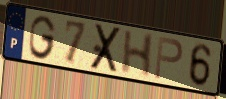6: (188, 42, 215, 90)
7: (63, 18, 87, 66)
G: (28, 14, 58, 61)
H: (119, 29, 156, 80)
P: (153, 34, 185, 82)
X: (88, 23, 124, 75)
